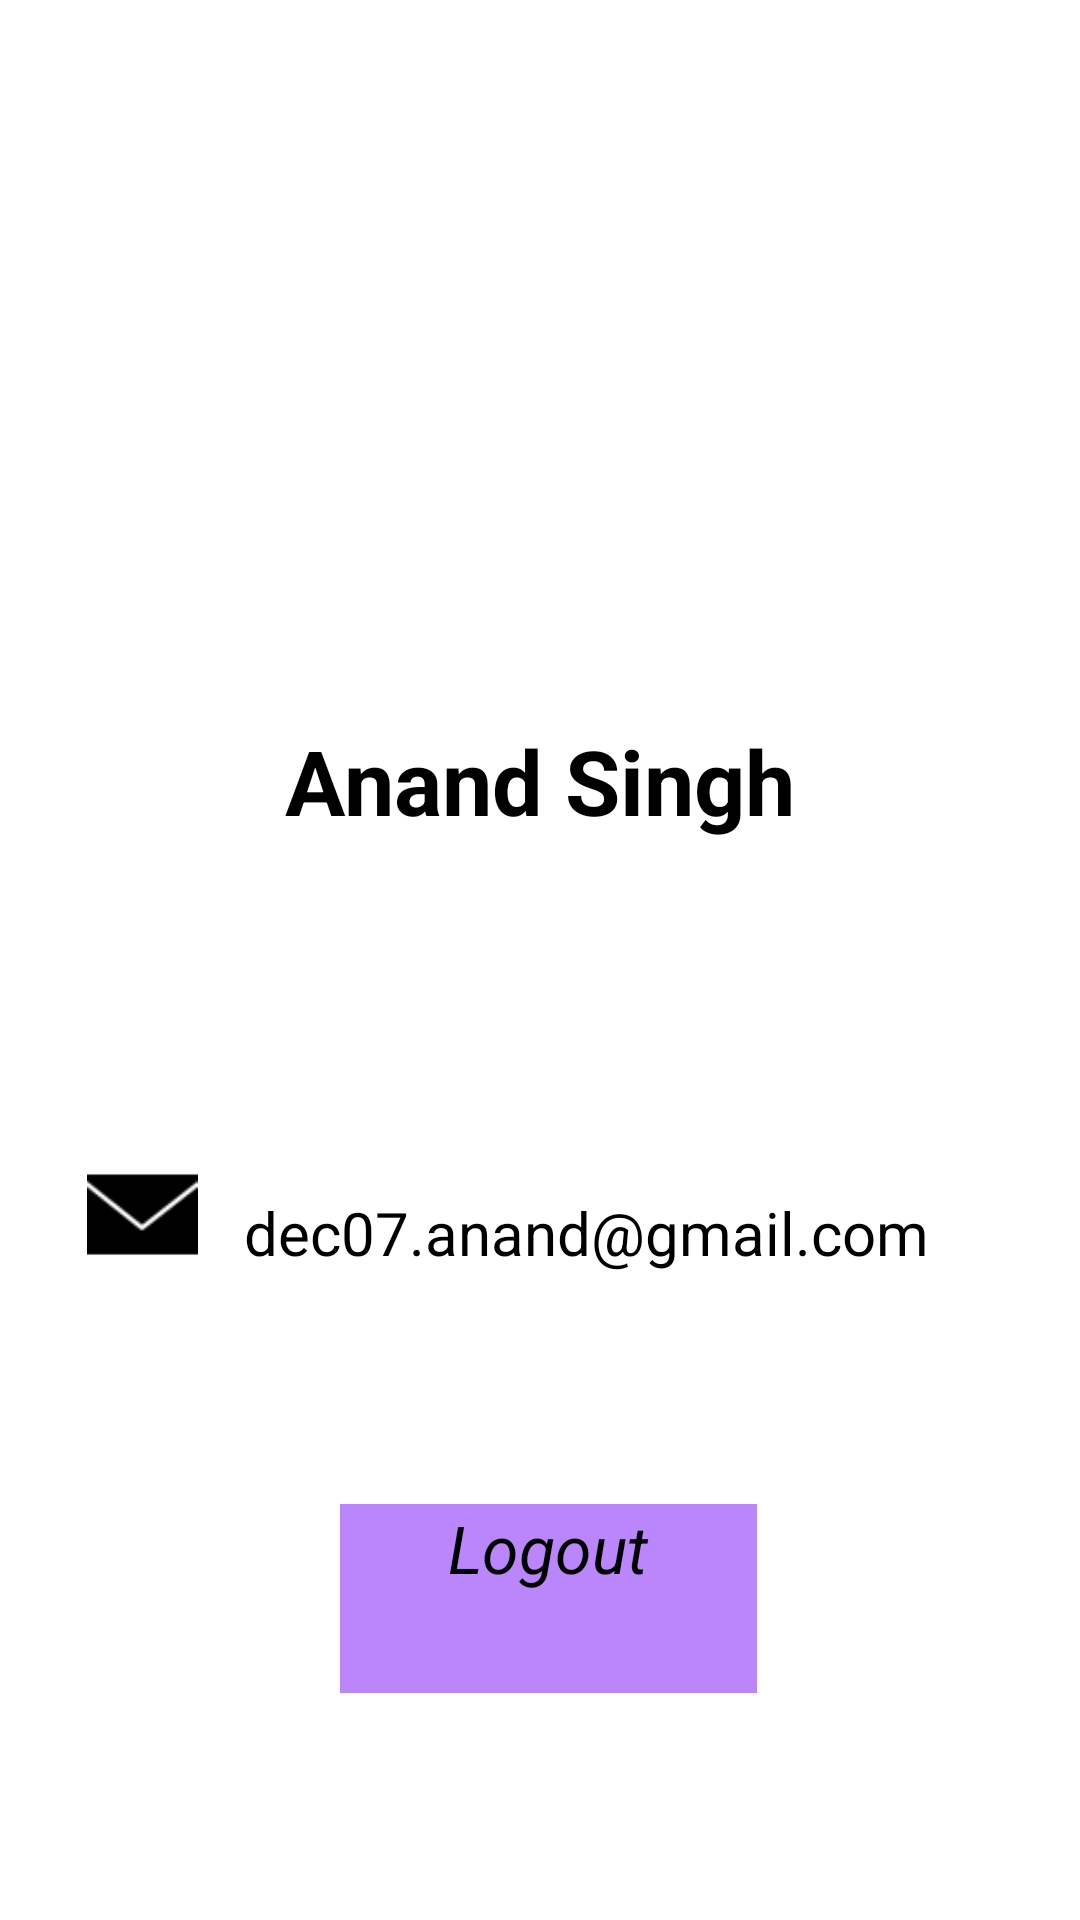

Icons on this 1080 × 1920 Android screen, each with the point to tap as (x,y):
iconsmail: (142,1214)
